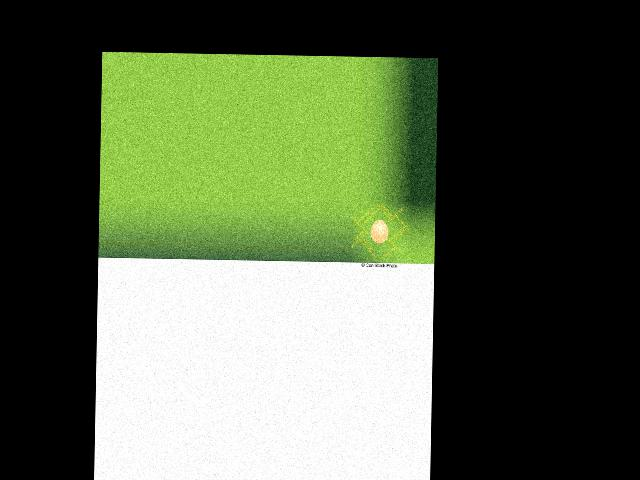egg: (370, 219, 388, 243)
